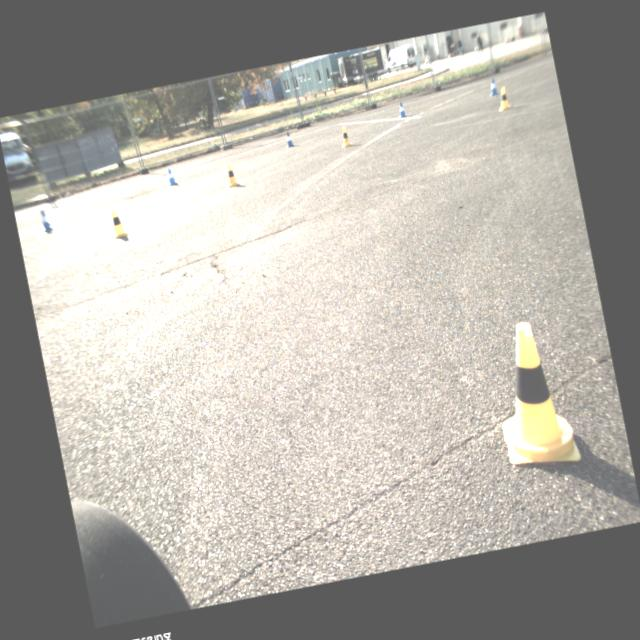blue_cone: (40, 207, 56, 232), (166, 167, 178, 186), (487, 78, 499, 96), (284, 130, 294, 148), (397, 102, 408, 118)
yellow_cone: (483, 316, 581, 474), (108, 206, 128, 238), (224, 162, 240, 188), (495, 86, 511, 111), (338, 126, 352, 148)
